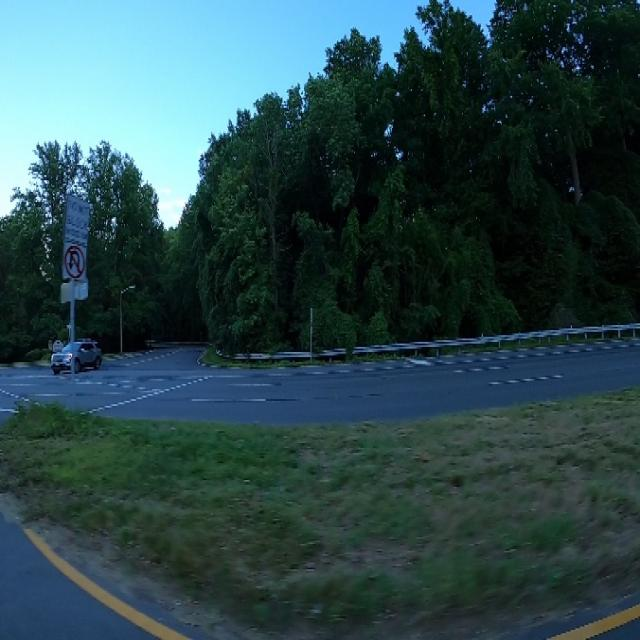cars: (51, 329, 102, 379)
